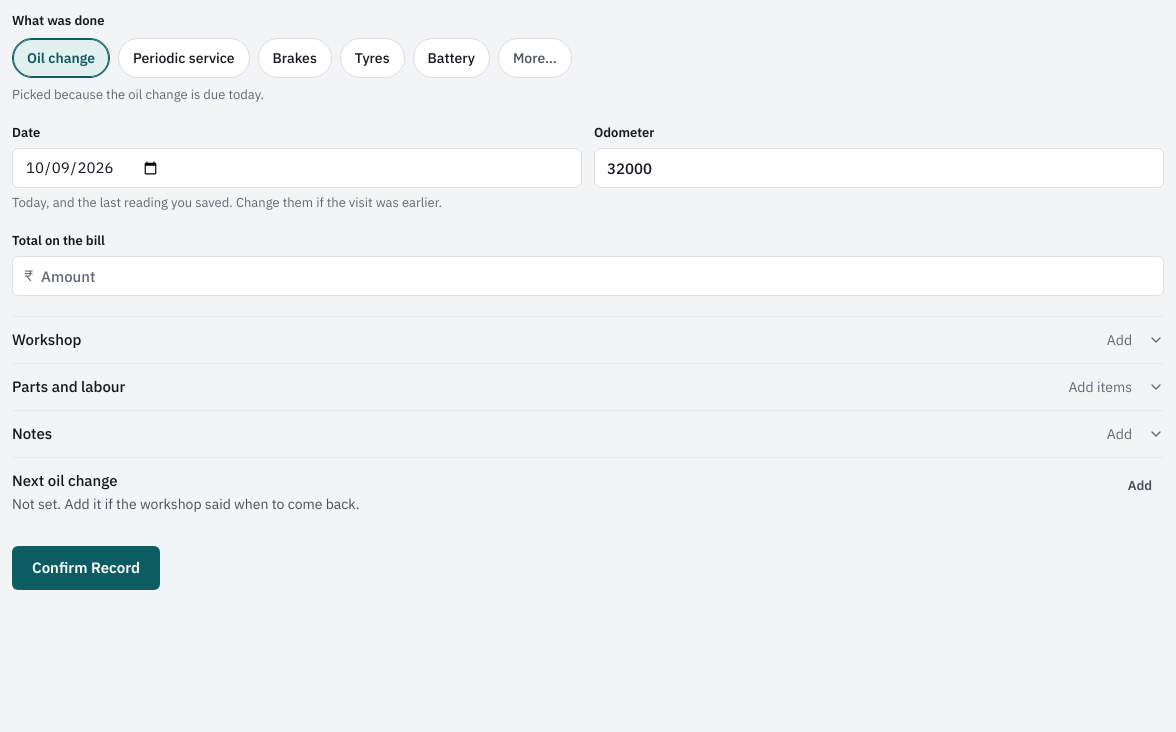
Test: MaintenanceForm › starts on the service that is due, and says why
This screenshot has width=1176, height=732.
Expected: the button "Oil change" is shown, x1=12 y1=38 x2=110 y2=78
Expected: the text "Picked because the oil change is due today." is shown, x1=12 y1=86 x2=264 y2=103
Click the button "Brakes" at (295, 58), box x1=258 y1=38 x2=332 y2=78
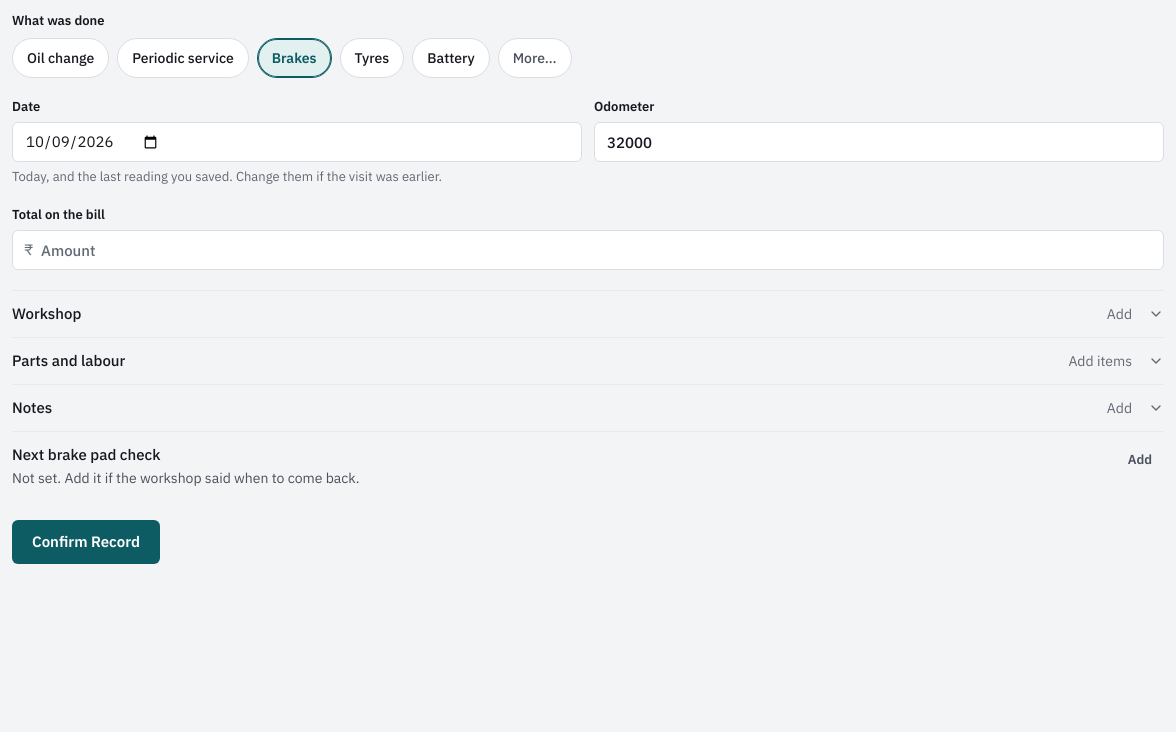
Now the text "Picked because" is gone
